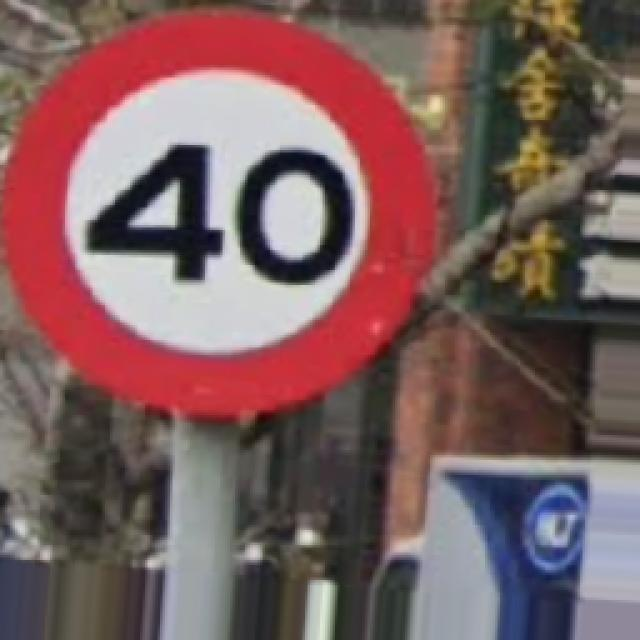Speed Limit -40-: (5, 12, 432, 412)
